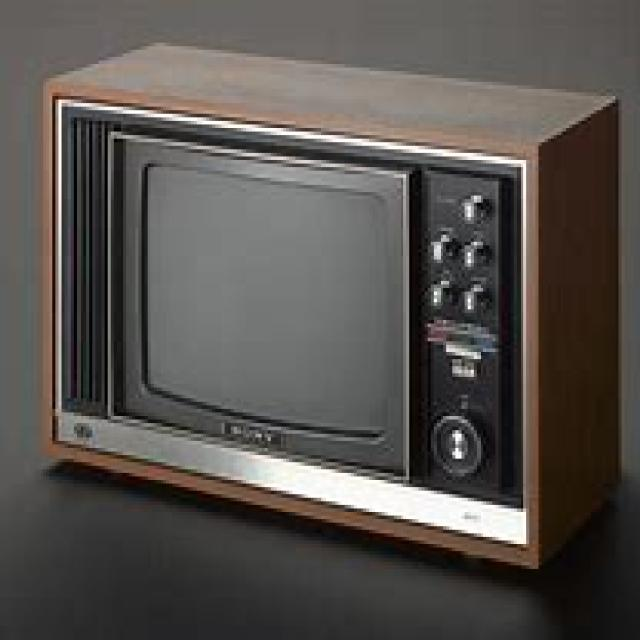tv: (37, 39, 621, 569)
